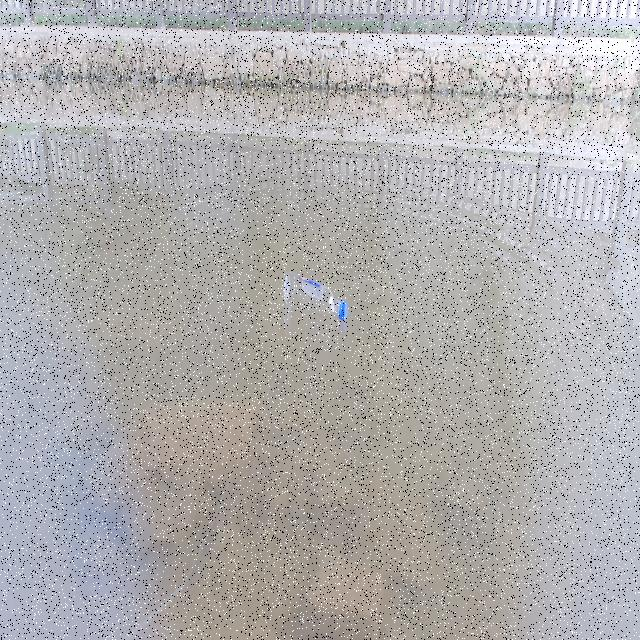Bottle: (281, 264, 350, 323)
